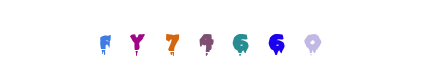4: (177, 0, 257, 80)
6: (200, 0, 280, 80), (223, 0, 303, 80)
7: (137, 0, 217, 80)
F: (99, 0, 179, 80)
O: (236, 0, 316, 80)
Y: (132, 0, 212, 80)
